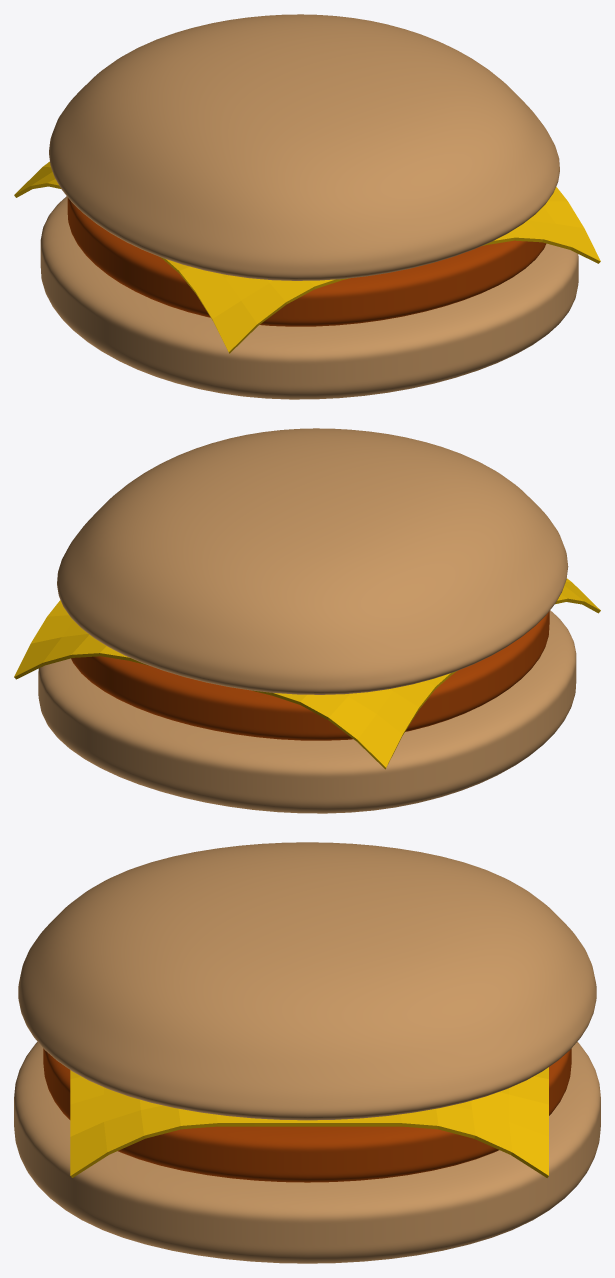
File: burger2.glb
3 views of the same model, one above another, from view 1: azimuth 30°, elevation 25°; view 2: azimuth 150°, elevation 25°; view 3: azimuth 270°, elevation 25° (orthographic). The views are drawn at different scales.
Parts seen in each view (by area): view 1: Cube.002, Cube, Cube.001, Plane; view 2: Cube.002, Cube, Cube.001, Plane; view 3: Cube.002, Cube, Cube.001, Plane.
Part boxes in pixels (box(x1,y1,x2,y2)): Cube.002: box(49, 14, 559, 280); Cube: box(40, 196, 578, 399); Cube.001: box(67, 197, 546, 326); Plane: box(14, 161, 600, 353); Cube.002: box(57, 428, 568, 694); Cube: box(38, 610, 576, 813); Cube.001: box(71, 611, 549, 740); Plane: box(14, 578, 600, 769); Cube.002: box(18, 842, 596, 1120); Cube: box(14, 1042, 600, 1263); Cube.001: box(43, 1048, 571, 1182); Plane: box(70, 1067, 548, 1177).
Bounding box in the file's own units: 9.17 × 4.72 × 9.17.
